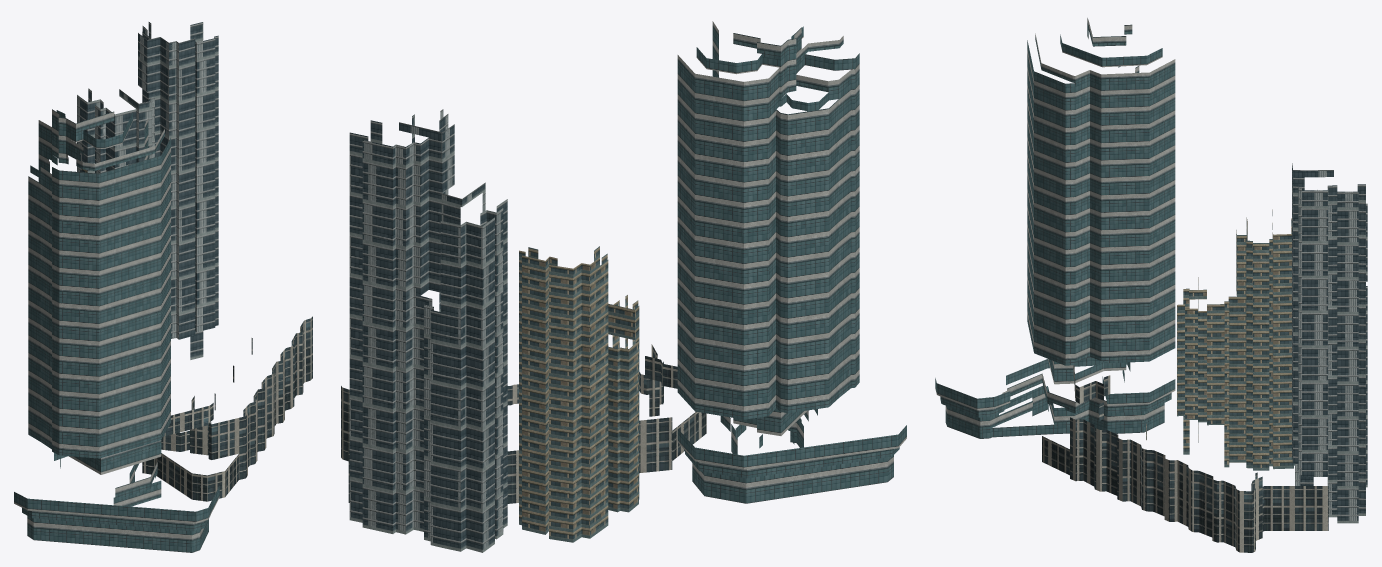
3 renders of one model, left to right at view 1: azimuth 30°, elevation 25°; view 2: azimuth 150°, elevation 25°; view 3: azimuth 270°, elevation 25°, orthographic. The views are drawn at different scales.
Parts seen in each view (by area): view 1: SilverRibbonGlazing, GalleryScreens, LimestonePiers; view 2: SilverRibbonGlazing, GalleryScreens, BalconyBays, LimestonePiers; view 3: SilverRibbonGlazing, GalleryScreens, BalconyBays, LimestonePiers.
Part boxes in pixels (x1,y1,x2,y2): SilverRibbonGlazing: (14,109,219,552); GalleryScreens: (77,22,218,359); LimestonePiers: (142,316,312,501); SilverRibbonGlazing: (677,21,906,503); GalleryScreens: (349,109,507,552); BalconyBays: (519,246,639,542); LimestonePiers: (341,344,706,503); SilverRibbonGlazing: (935,18,1175,438); GalleryScreens: (1292,163,1367,523); BalconyBays: (1177,209,1294,470); LimestonePiers: (1042,365,1328,552).
Bounding box in the file's own units: 169 × 162 × 165.
Materials: 4 (4 with a texture image).
